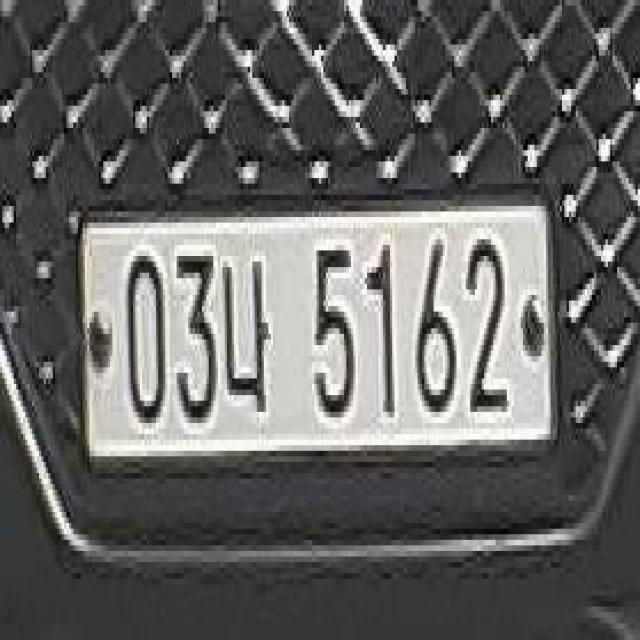illegal_plate: (83, 182, 551, 480)
